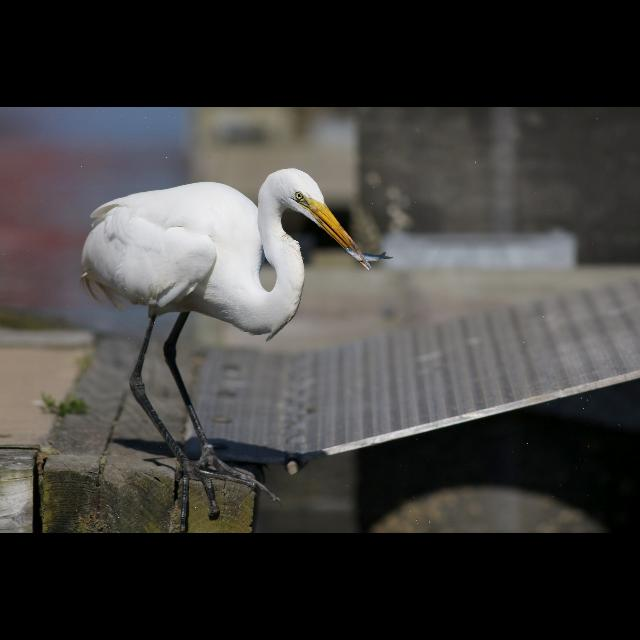egret: (75, 161, 395, 509)
